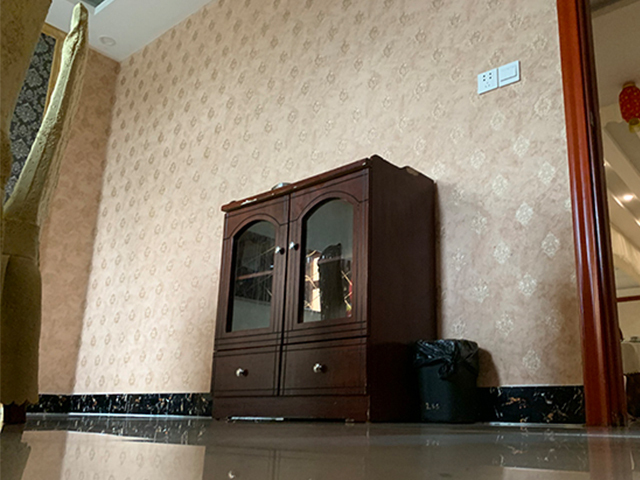cabinet: (208, 153, 439, 424)
trashcan: (415, 336, 480, 424)
